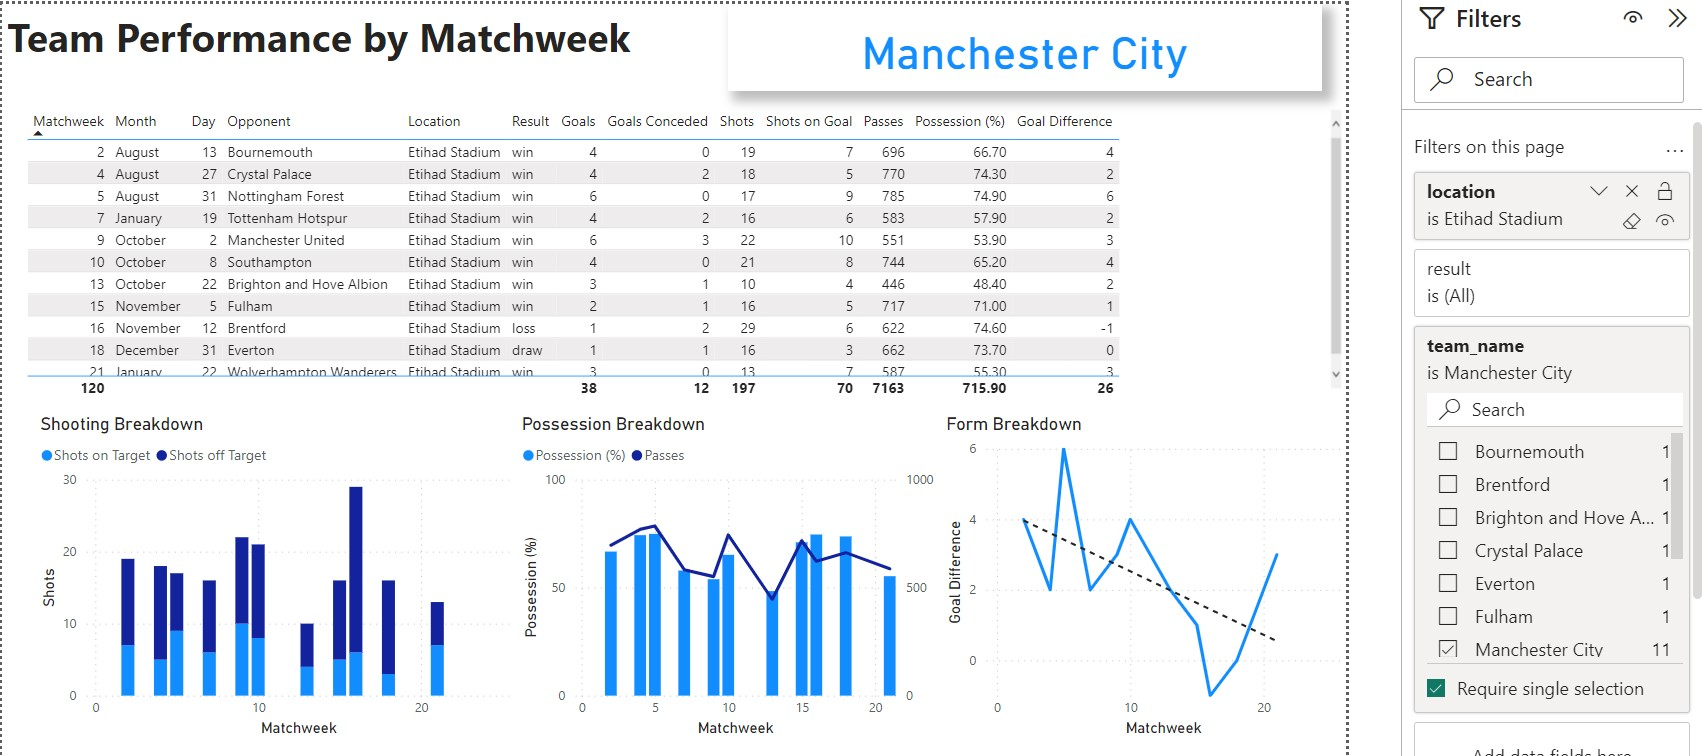

What the dashboard file says about the page in this screenshot:
{"tool":"powerbi","page":{"name":"Page 1","canvas":[1280,720],"ordinal":0},"visuals":[{"type":"columnChart","title":"Shooting Breakdown","fields":{"Category":["epl_2022_2023 team_performance.matchweek"],"Y":["Sum(epl_2022_2023 team_performance.shots_on_target)","epl_2022_2023 team_performance.shots minus shots_on_target"]},"box":[31.4,390,458.6,311.4],"z":0},{"type":"textbox","box":[0,0,621.4,95.7],"z":1},{"type":"lineStackedColumnComboChart","title":"Possession Breakdown","fields":{"Category":["epl_2022_2023 team_performance.matchweek"],"Y":["Sum(epl_2022_2023 team_performance.possession)"],"Y2":["Sum(epl_2022_2023 team_performance.passes)"]},"box":[490,390,422.9,311.4],"z":2},{"type":"tableEx","fields":{"Values":["Sum(epl_2022_2023 team_performance.matchweek)","epl_2022_2023 team_performance.date_played.Variation.Date Hierarchy.Month","epl_2022_2023 team_performance.date_played.Variation.Date Hierarchy.Day","epl_2022_2023 team_performance.opponent_name","epl_2022_2023 team_performance.location","epl_2022_2023 team_performance.result","Sum(epl_2022_2023 team_performance.score)","Sum(epl_2022_2023 team_performance.opponent_score)","Sum(epl_2022_2023 team_performance.shots)","Sum(epl_2022_2023 team_performance.shots_on_target)","Sum(epl_2022_2023 team_performance.passes)","Sum(epl_2022_2023 team_performance.possession)"]},"box":[18.6,95.7,1261.4,284.3],"z":3},{"type":"lineChart","title":"Form Breakdown","fields":{"Category":["epl_2022_2023 team_performance.matchweek"],"Y":["epl_2022_2023 team_performance.score minus opponent_score"]},"box":[894.3,390,385.7,311.4],"z":4},{"type":"card","fields":{"Values":["epl_2022_2023 team_performance.SelectedTeam"]},"box":[691.4,0,565.7,82.9],"z":5}]}

Visuals, with their boxes on the page's 1280x720 design canvas (x1, y1, x2, y2). These are canvas units, not pixel positions in the 1702x756 screenshot, which may show the page scaled, cropped or inside an application window:
"Shooting Breakdown" columnChart: [31, 390, 490, 701]
textbox: [0, 0, 621, 96]
"Possession Breakdown" lineStackedColumnComboChart: [490, 390, 913, 701]
tableEx - Sum(epl_2022_2023 team_performance.matchweek) x epl_2022_2023 team_performance.date_played.Variation.Date Hierarchy.Month: [19, 96, 1280, 380]
"Form Breakdown" lineChart: [894, 390, 1280, 701]
card - epl_2022_2023 team_performance.SelectedTeam: [691, 0, 1257, 83]
